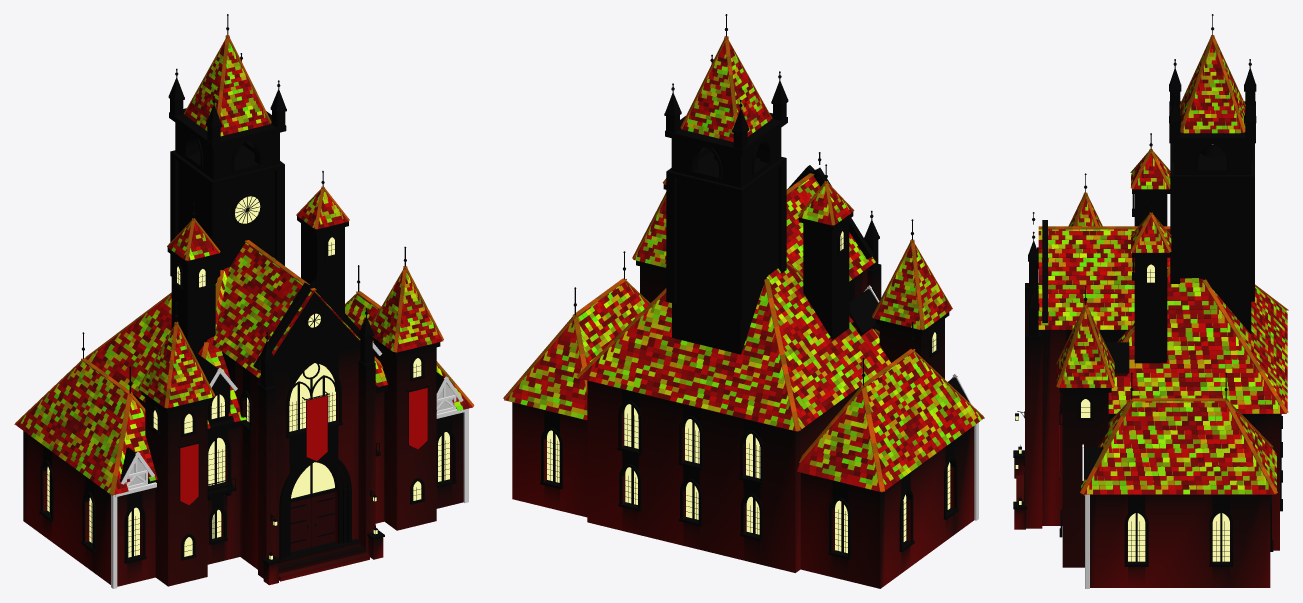
File: SilverbrookTownHall.fbx
The picture shows the model from 3 angles, left to right: view 1: azimuth 30°, elevation 25°; view 2: azimuth 150°, elevation 25°; view 3: azimuth 270°, elevation 25°; orthographic projection. The views are drawn at different scales.
Visible parts, largest first — view 1: SM_SBTownHall_Masonry, SM_SBTownHall_Roof, SM_SBTownHall_Details, SM_SBTownHall_Timber; view 2: SM_SBTownHall_Masonry, SM_SBTownHall_Roof, SM_SBTownHall_Details, SM_SBTownHall_Timber; view 3: SM_SBTownHall_Roof, SM_SBTownHall_Masonry, SM_SBTownHall_Details, SM_SBTownHall_Timber.
Boxes of the visible parts, x1,y1,x2,y2 form: SM_SBTownHall_Masonry: [23, 96, 463, 586]; SM_SBTownHall_Roof: [14, 35, 474, 495]; SM_SBTownHall_Details: [47, 14, 449, 560]; SM_SBTownHall_Timber: [111, 342, 468, 588]; SM_SBTownHall_Masonry: [512, 99, 974, 588]; SM_SBTownHall_Roof: [503, 36, 984, 492]; SM_SBTownHall_Details: [547, 14, 950, 553]; SM_SBTownHall_Timber: [864, 285, 978, 520]; SM_SBTownHall_Roof: [1028, 35, 1288, 494]; SM_SBTownHall_Masonry: [1013, 84, 1282, 587]; SM_SBTownHall_Details: [1015, 14, 1251, 561]; SM_SBTownHall_Timber: [1082, 144, 1213, 588].
Bounding box in the file's own units: 2200 × 2795 × 1431.
